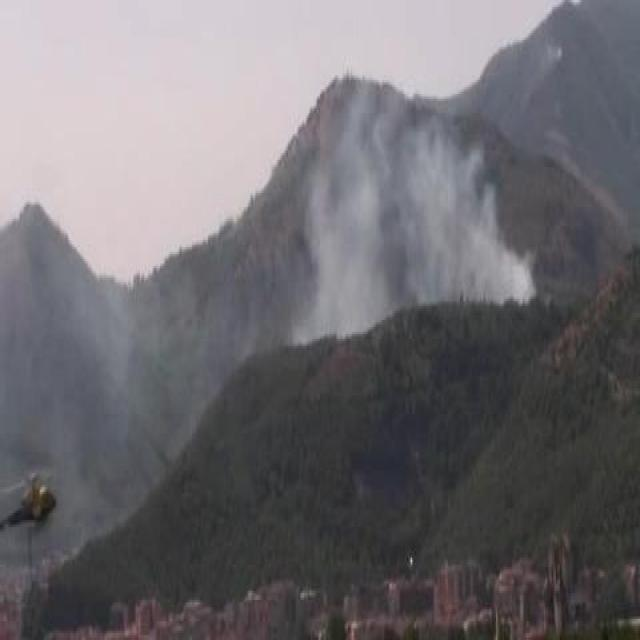Smoke: (315, 112, 534, 314)
